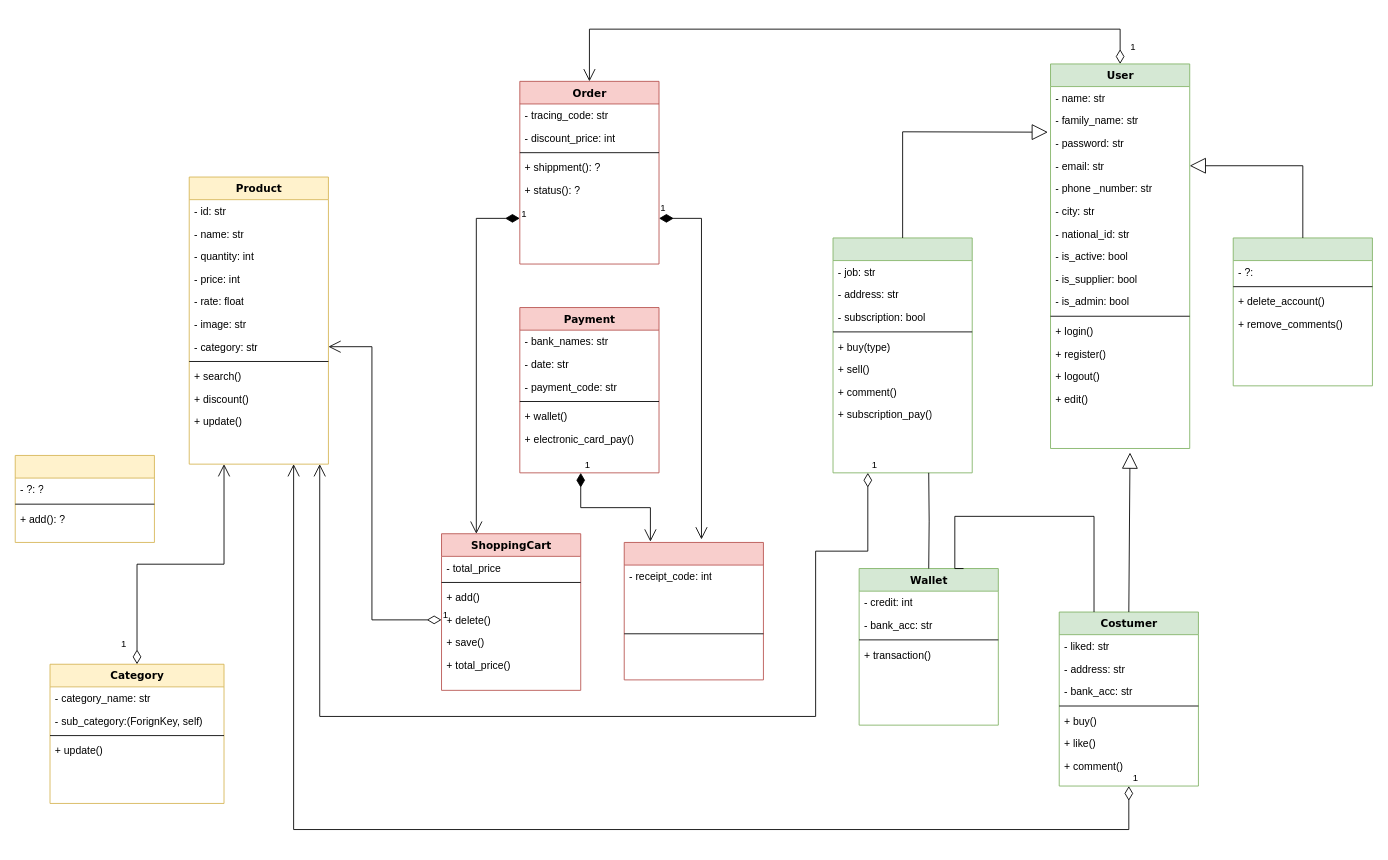
The diagram is 1388 pixels wide and 860 high, and some of its shapes have lost their labels. Here are the shapes that lost their labels. From the top down, the box of each, then its label:
(1232, 237, 1372, 386): Admin
(832, 237, 972, 473): Supplier
(14, 455, 154, 542): Feature
(623, 542, 763, 680): Factor
